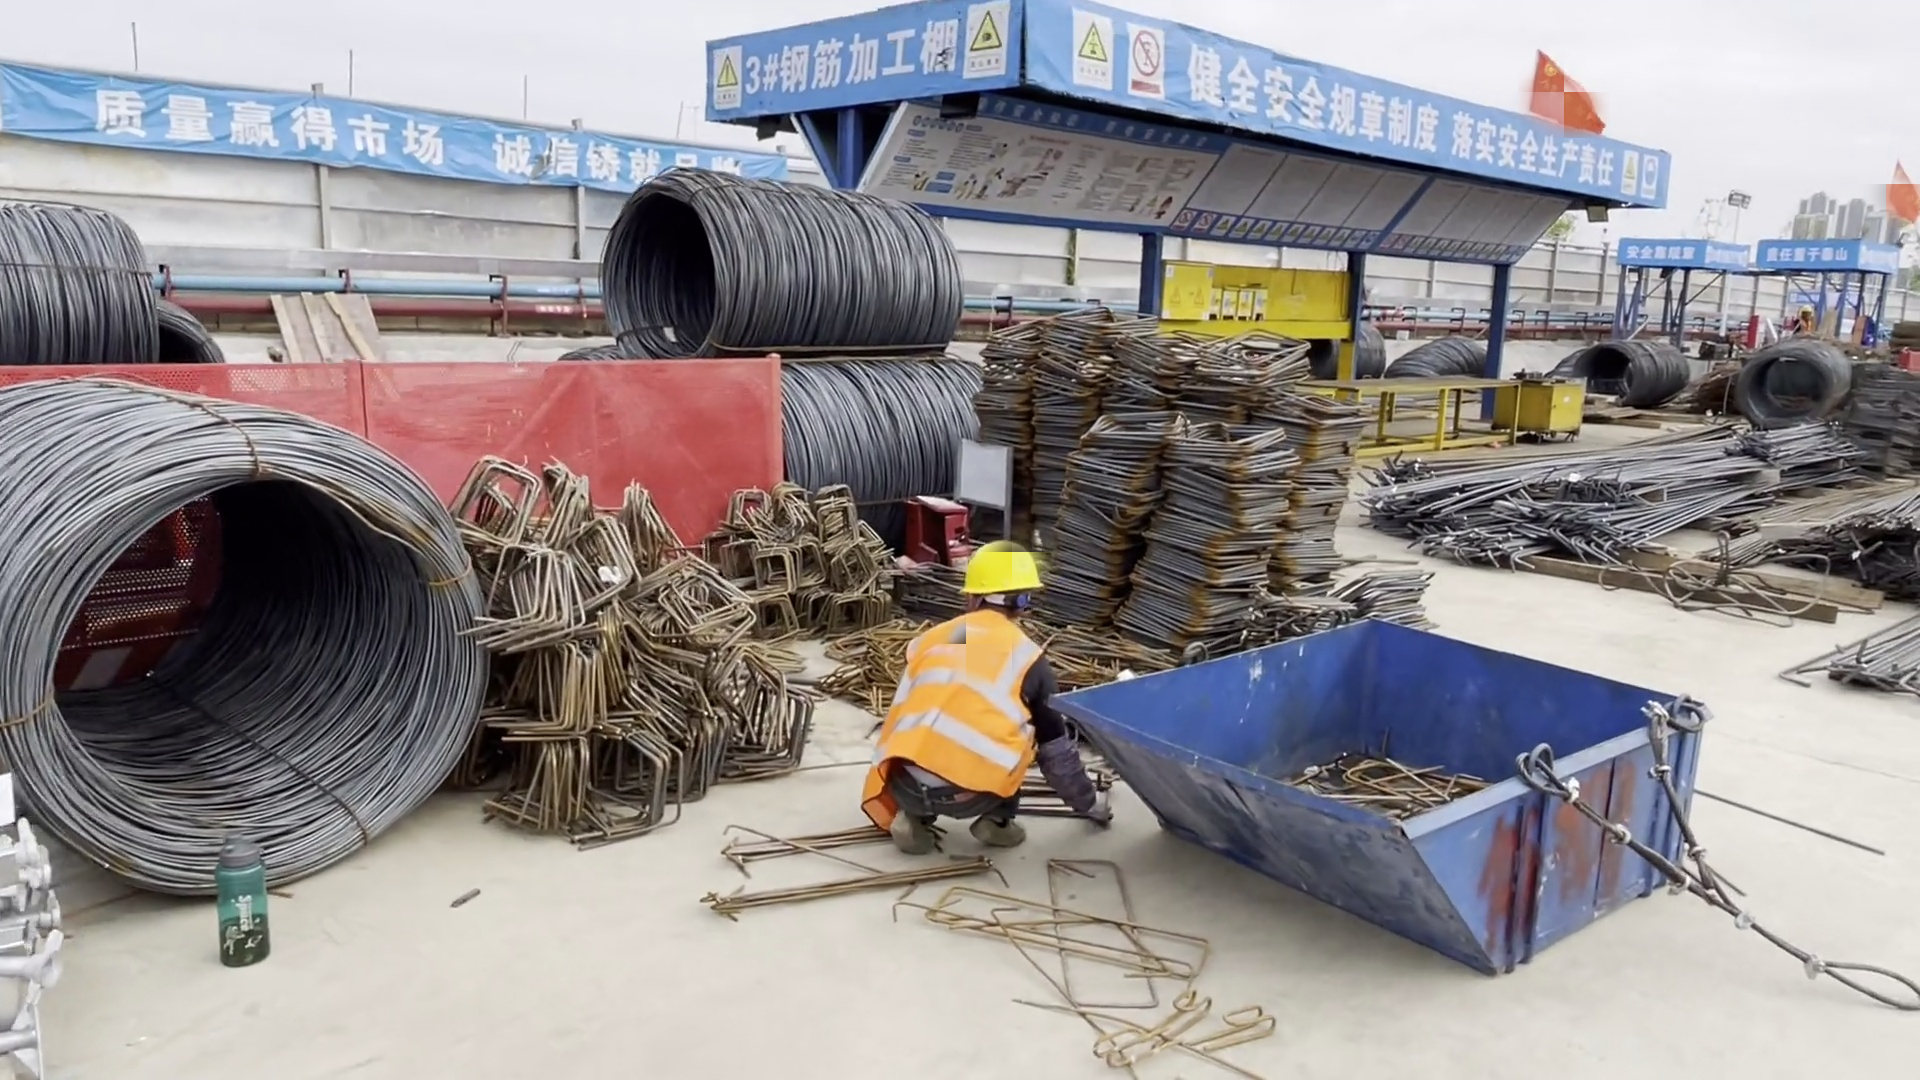cutter: (1484, 371, 1579, 437)
ebox: (1159, 262, 1213, 323)
fence: (264, 366, 791, 531)
helmet: (958, 542, 1045, 606), (1801, 303, 1811, 312)
hopper: (1060, 617, 1709, 973)
person: (855, 541, 1105, 843), (1792, 304, 1811, 329)
rebar: (1379, 440, 1758, 553), (1720, 418, 1855, 486), (1809, 493, 1920, 570), (1820, 610, 1920, 681)
slogan: (4, 67, 775, 195), (1180, 36, 1665, 200), (879, 124, 1195, 208), (1073, 13, 1166, 96), (1609, 239, 1752, 268), (1761, 249, 1899, 276), (968, 6, 1004, 69), (715, 46, 744, 101)
vest: (862, 610, 1034, 830)
